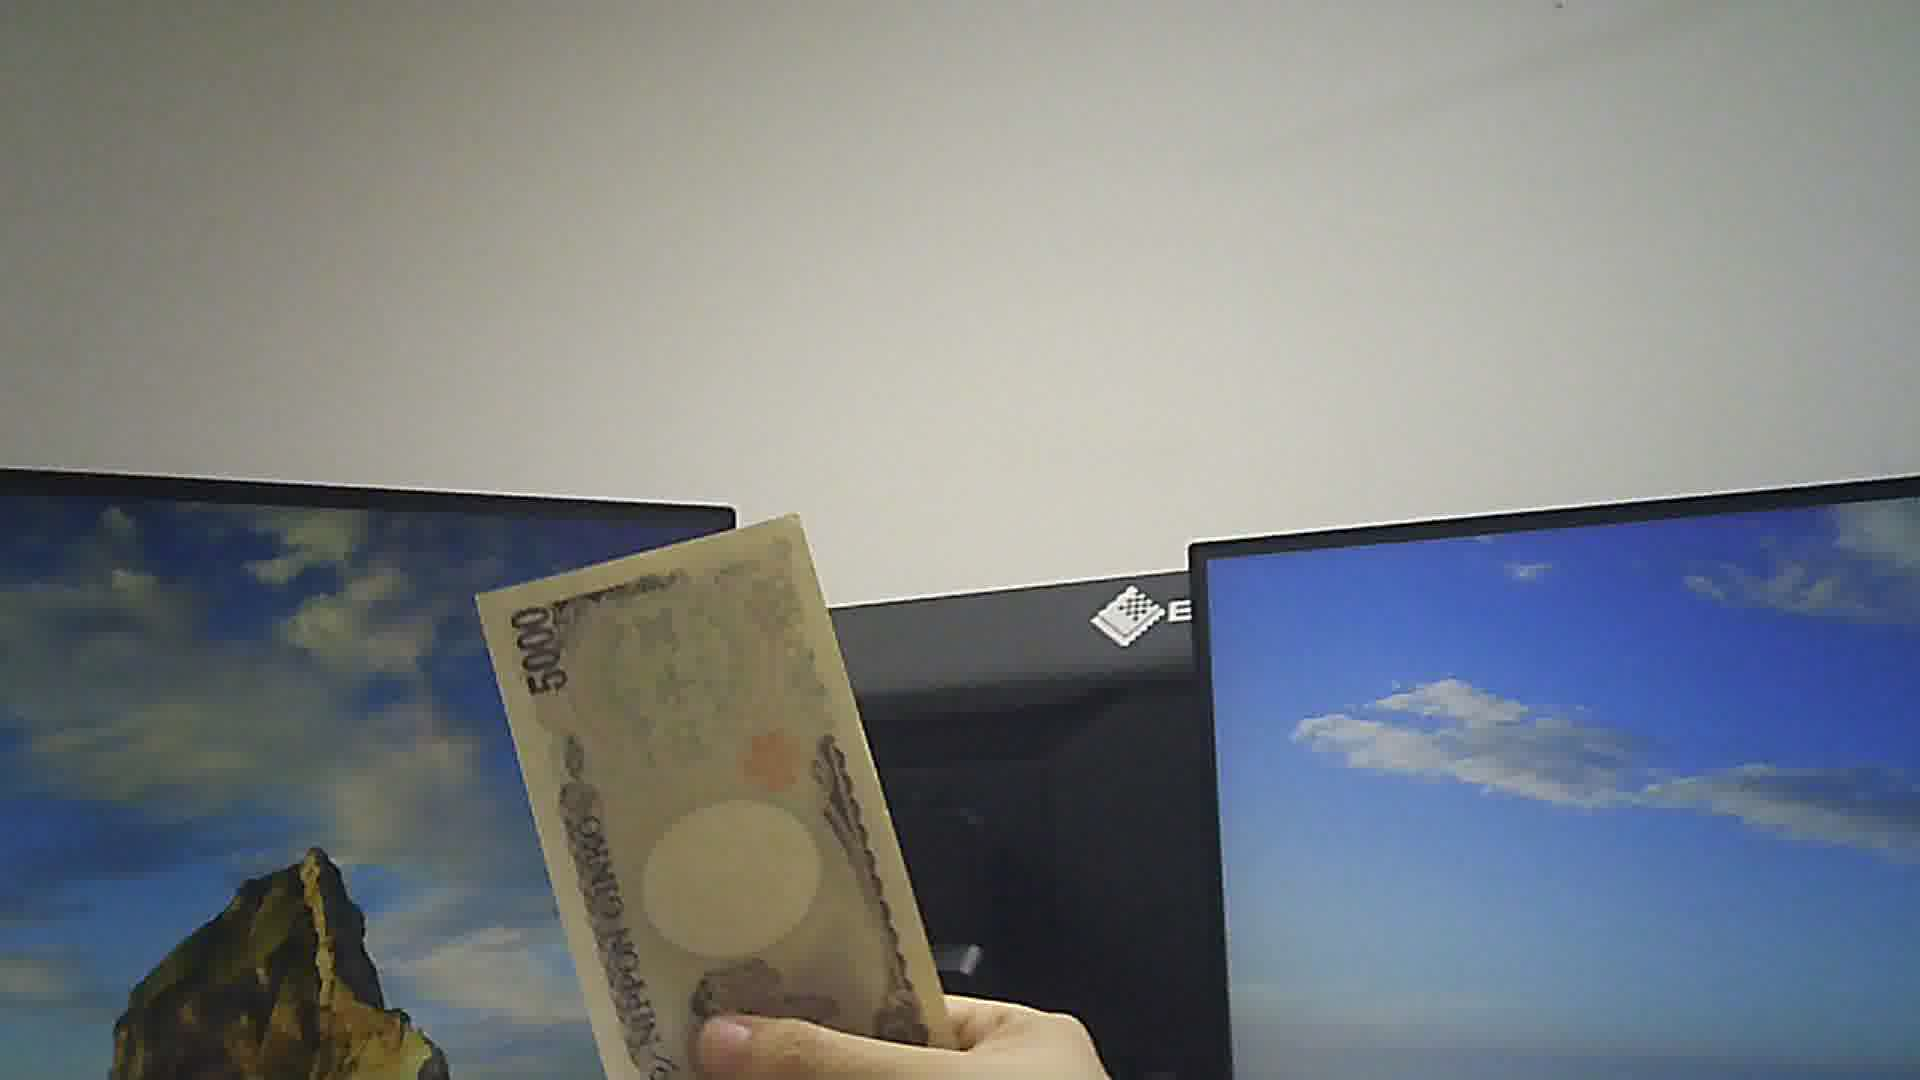5,000 Yen: (462, 505, 948, 1079)
